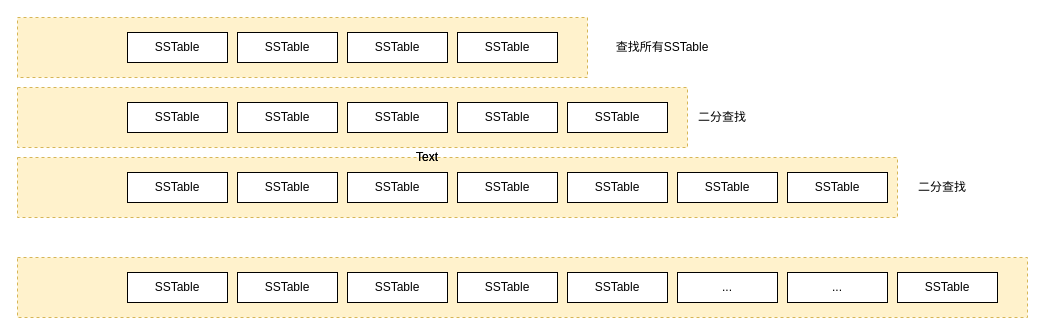
The diagram is 1045 pixels wide and 335 high, and some of its shapes have lost their labels. The box of each missing label's shape, as (x1, y1, x2, y2) in pixels:
Level 0（4个）: (16, 16, 588, 78)
Level 1（10M）: (16, 86, 688, 148)
Level 2（100M）: (16, 156, 898, 218)
Level N（100M）: (16, 256, 1028, 318)
